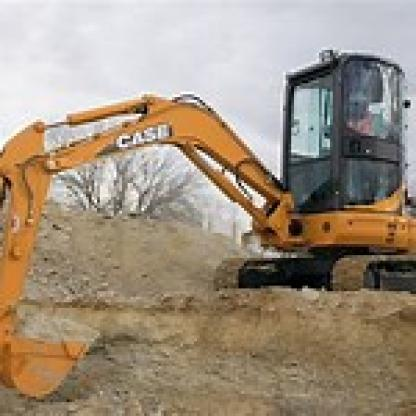excavator: (8, 28, 414, 394)
